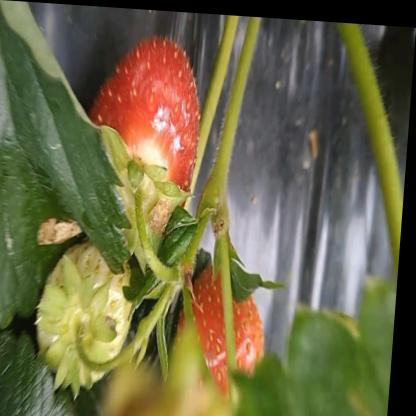ripe: (91, 23, 219, 181), (173, 257, 269, 393)
unripe: (36, 232, 146, 392)
